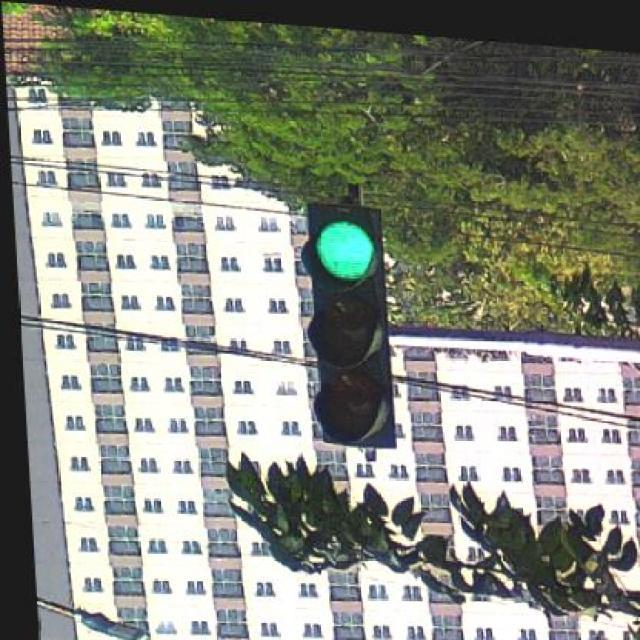traffic light: (301, 202, 397, 449)
